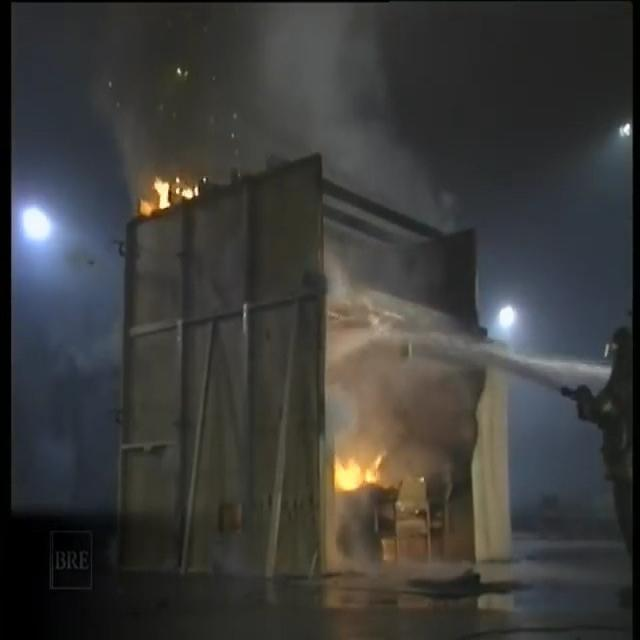Fire: (323, 432, 417, 528)
